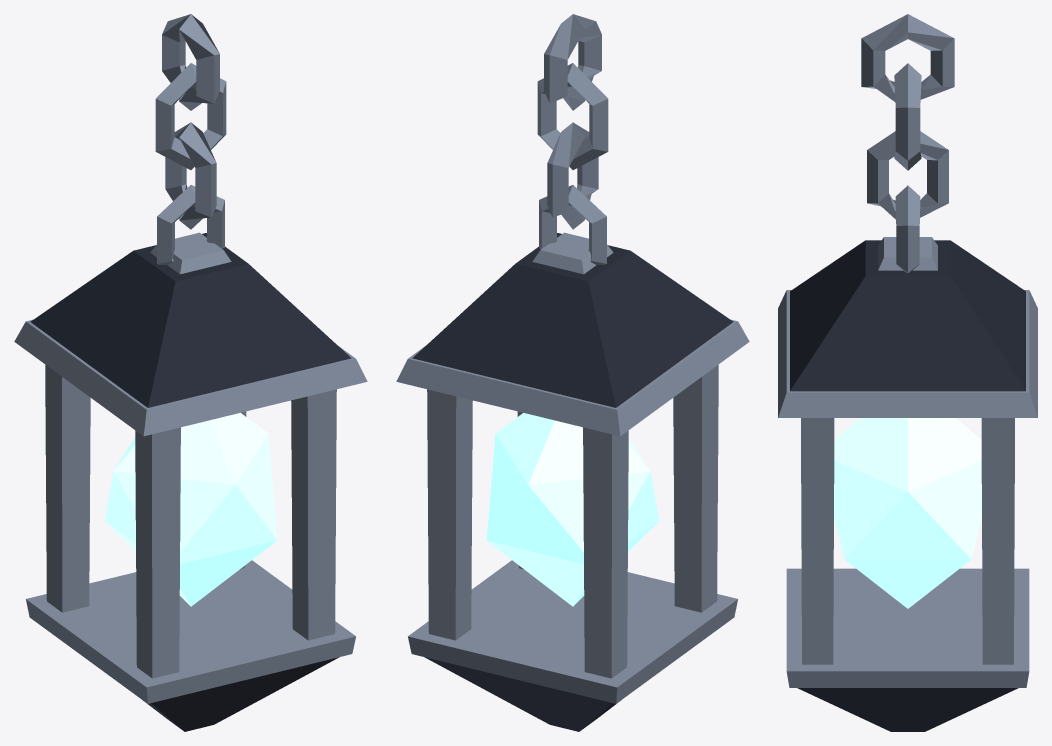
Rendered from PhantomLantern.fbx.
3 views of the same model, side by side, from view 1: azimuth 30°, elevation 25°; view 2: azimuth 150°, elevation 25°; view 3: azimuth 270°, elevation 25° (orthographic).
Visible parts, largest first — view 1: Body_Lantern_Trim, Body_Lantern_Dark, Neon, Chain; view 2: Body_Lantern_Trim, Body_Lantern_Dark, Neon, Chain; view 3: Body_Lantern_Trim, Body_Lantern_Dark, Neon, Chain.
Boxes of the visible parts, x1=… form: Body_Lantern_Trim: x1=14, y1=185, x2=367, y2=703; Body_Lantern_Dark: x1=30, y1=233, x2=351, y2=731; Neon: x1=104, y1=413, x2=277, y2=606; Chain: x1=155, y1=14, x2=226, y2=229; Body_Lantern_Trim: x1=396, y1=185, x2=749, y2=703; Body_Lantern_Dark: x1=412, y1=233, x2=733, y2=731; Neon: x1=486, y1=413, x2=659, y2=606; Chain: x1=537, y1=14, x2=608, y2=229; Body_Lantern_Trim: x1=778, y1=185, x2=1037, y2=687; Body_Lantern_Dark: x1=790, y1=240, x2=1025, y2=731; Neon: x1=834, y1=418, x2=981, y2=608; Chain: x1=861, y1=14, x2=954, y2=219.
Bounding box in the file's own units: 0.1301 × 0.3929 × 0.1301.
